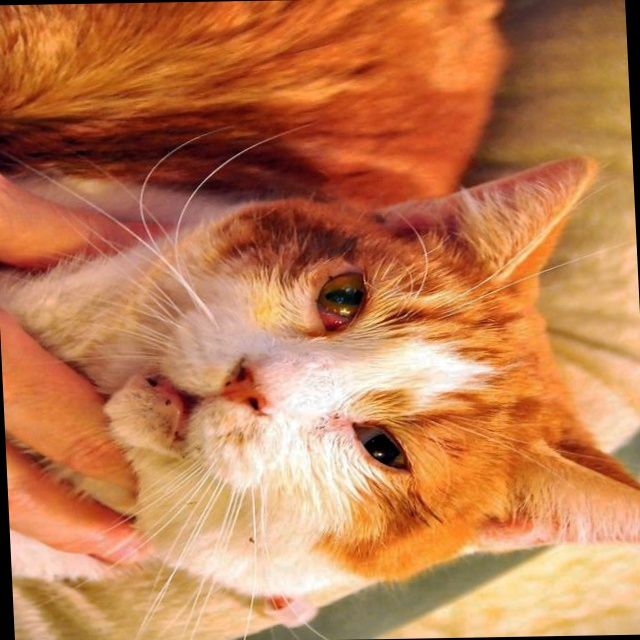eye_infection: (308, 268, 374, 337), (348, 416, 411, 471)
